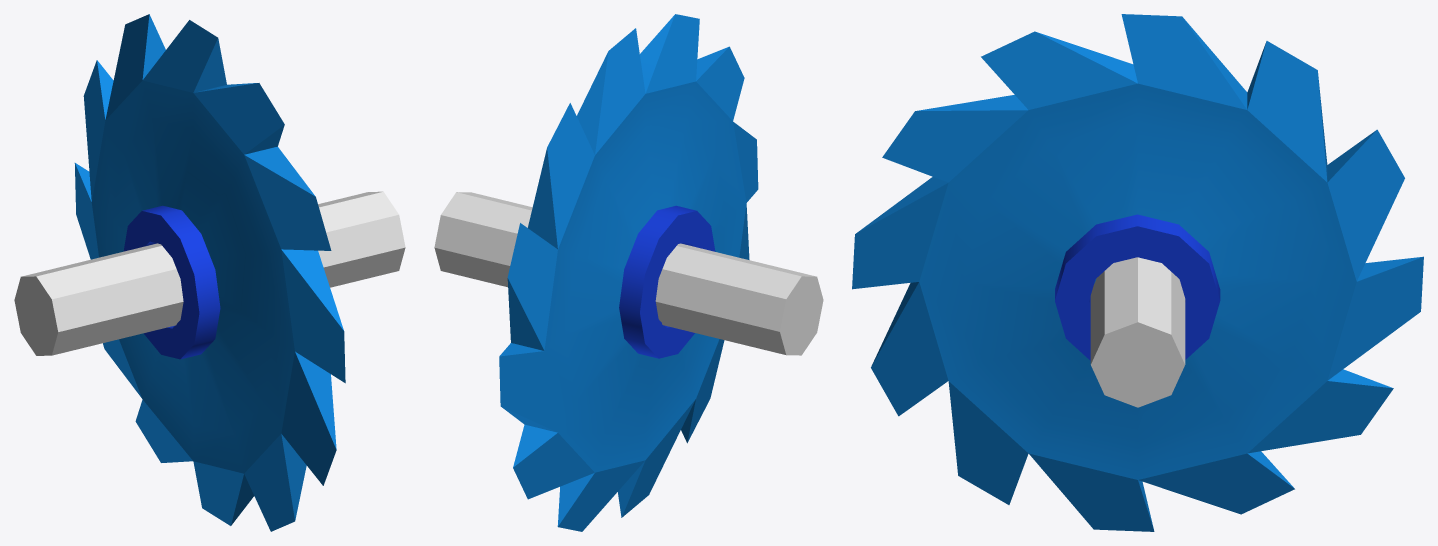
Rendered from obstaclerotating.fbx.
The picture shows the model from 3 angles, left to right: view 1: azimuth 30°, elevation 25°; view 2: azimuth 150°, elevation 25°; view 3: azimuth 270°, elevation 25°; orthographic projection. The views are drawn at different scales.
Visible parts, largest first — view 1: rotating_saw, Cylinder; view 2: rotating_saw, Cylinder; view 3: rotating_saw, Cylinder.
Part boxes in pixels (x1=…): rotating_saw: x1=74, y1=14, x2=345, y2=531; Cylinder: x1=14, y1=191, x2=405, y2=355; rotating_saw: x1=499, y1=14, x2=758, y2=531; Cylinder: x1=434, y1=192, x2=823, y2=355; rotating_saw: x1=852, y1=14, x2=1423, y2=531; Cylinder: x1=1090, y1=257, x2=1185, y2=407.
Size of the model in its own units: 42.29 by 56.04 by 56.03.
